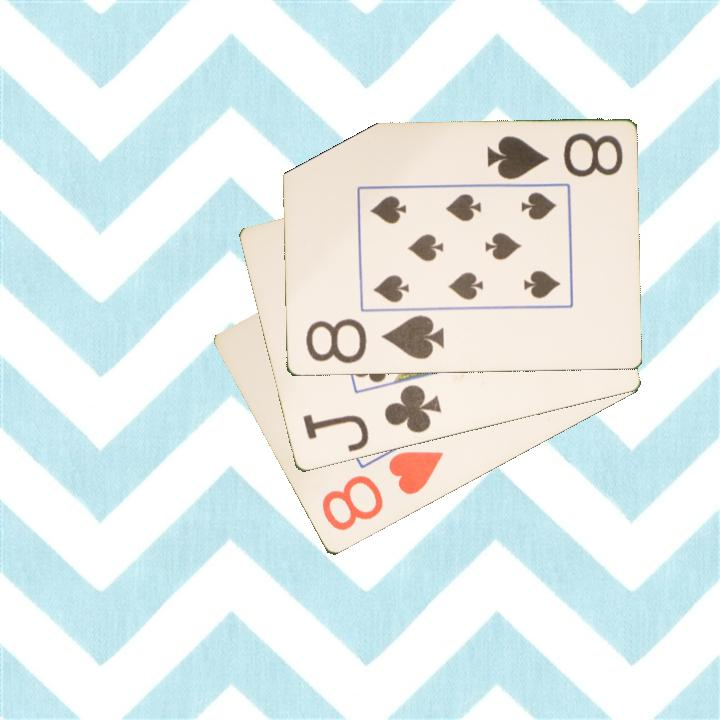8h: (318, 448, 447, 535)
8s: (302, 312, 447, 367), (482, 130, 626, 183)
Jc: (299, 381, 444, 455)
